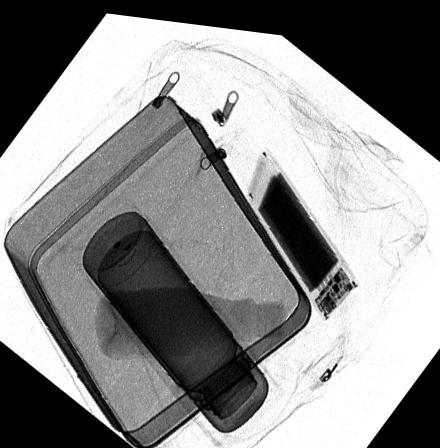Powerbank: (244, 142, 358, 311)
